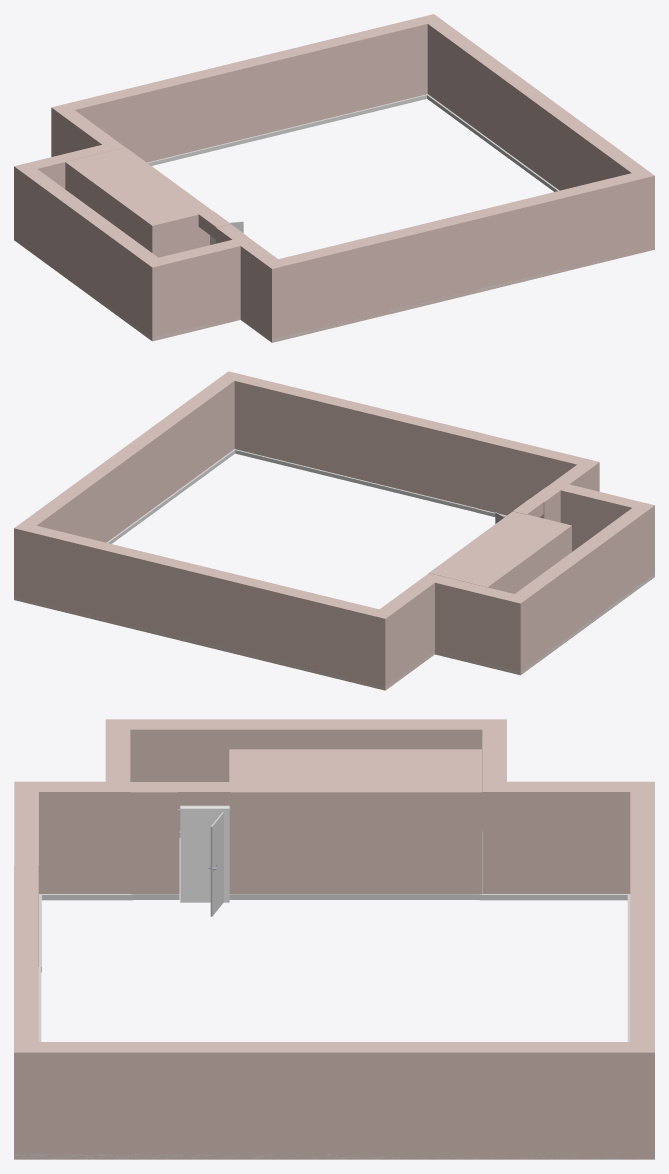
File: interior.fbx
3 renders of one model, top to bottom at view 1: azimuth 30°, elevation 25°; view 2: azimuth 150°, elevation 25°; view 3: azimuth 270°, elevation 25°, orthographic. The views are drawn at different scales.
Parts seen in each view (by area): view 1: Room, Room.002, Baseboard, Room.003; view 2: Room, Room.002, Baseboard, Room.001; view 3: Room, Room.002, Room.001, Baseboard, CTRL_Hole, Baseboard.002, Room.003, Door.
Part boxes in pixels (x1,y1,x2,y2): Room: (14, 14, 654, 342); Room.002: (65, 147, 211, 257); Baseboard: (55, 94, 654, 342); Room.003: (198, 210, 230, 238); Room: (14, 371, 654, 690); Room.002: (429, 511, 571, 593); Baseboard: (14, 449, 654, 690); Room.001: (531, 487, 560, 522); Room: (14, 719, 654, 1159); Room.002: (229, 749, 481, 894); Room.001: (130, 782, 179, 894); Baseboard: (14, 831, 654, 1159); CTRL_Hole: (180, 806, 229, 902); Baseboard.002: (229, 894, 481, 899); Room.003: (177, 782, 230, 809); Door: (210, 812, 223, 916).
Size of the model in its own units: 1600 by 251 by 1300.
